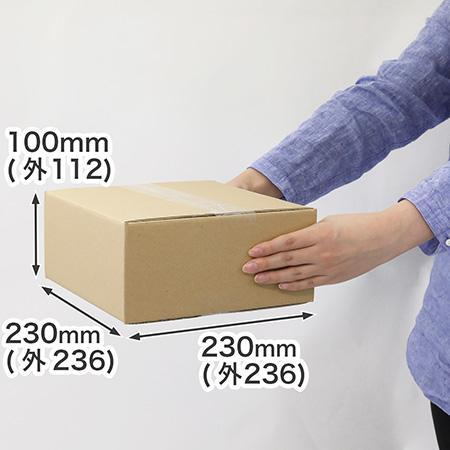box: (37, 183, 321, 321)
